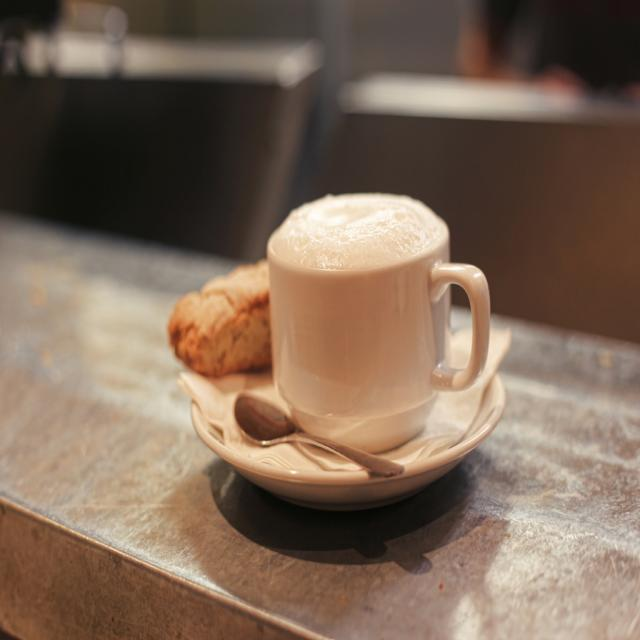Coffee: (281, 187, 512, 477)
